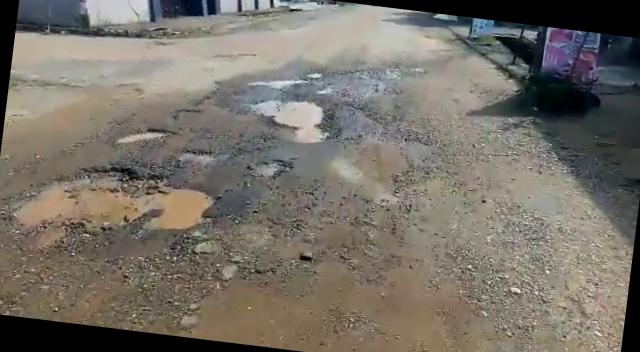pothole: (2, 156, 217, 246), (245, 89, 342, 147), (120, 122, 176, 151), (252, 70, 308, 93)
